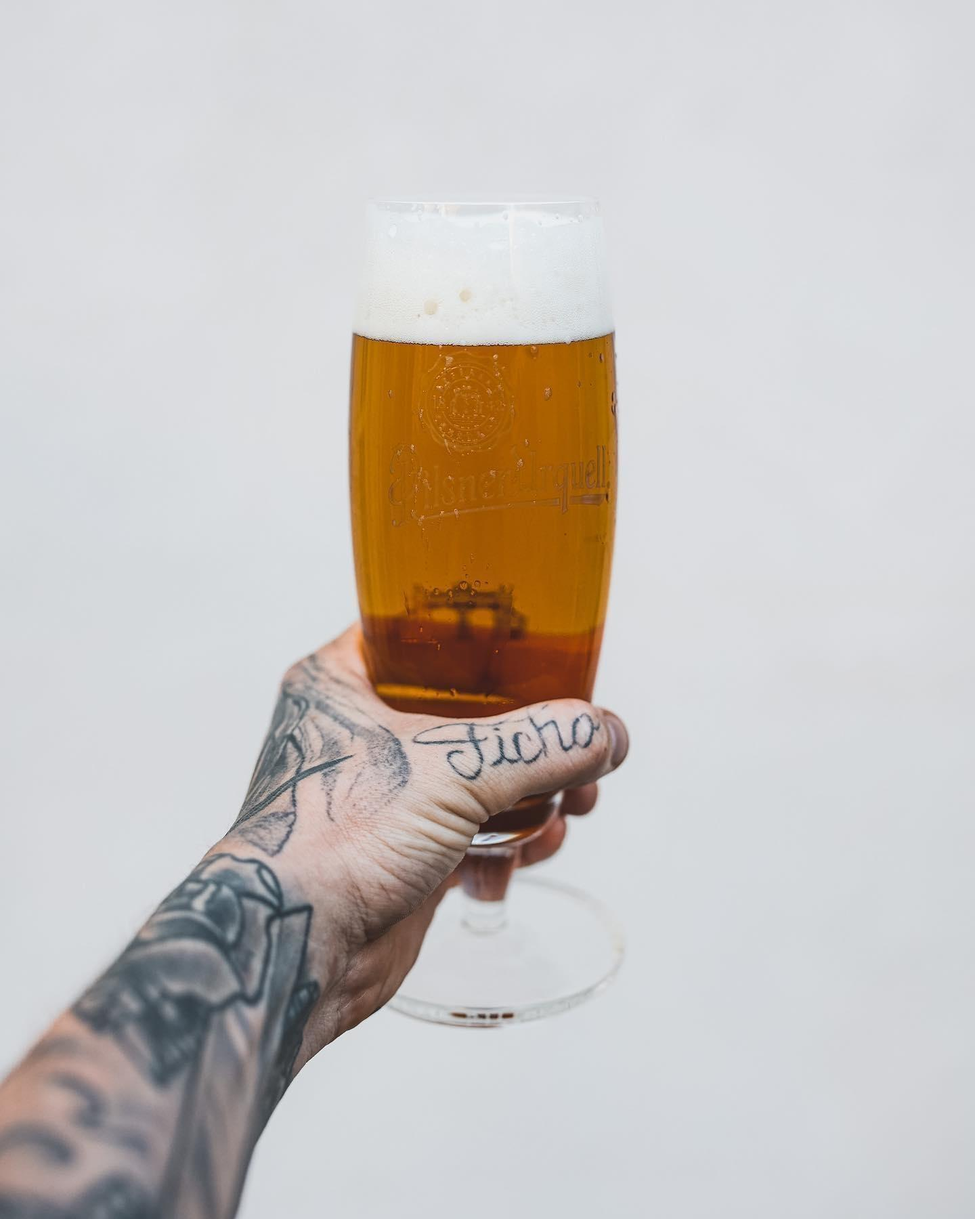glass-wine: (346, 190, 641, 1026)
